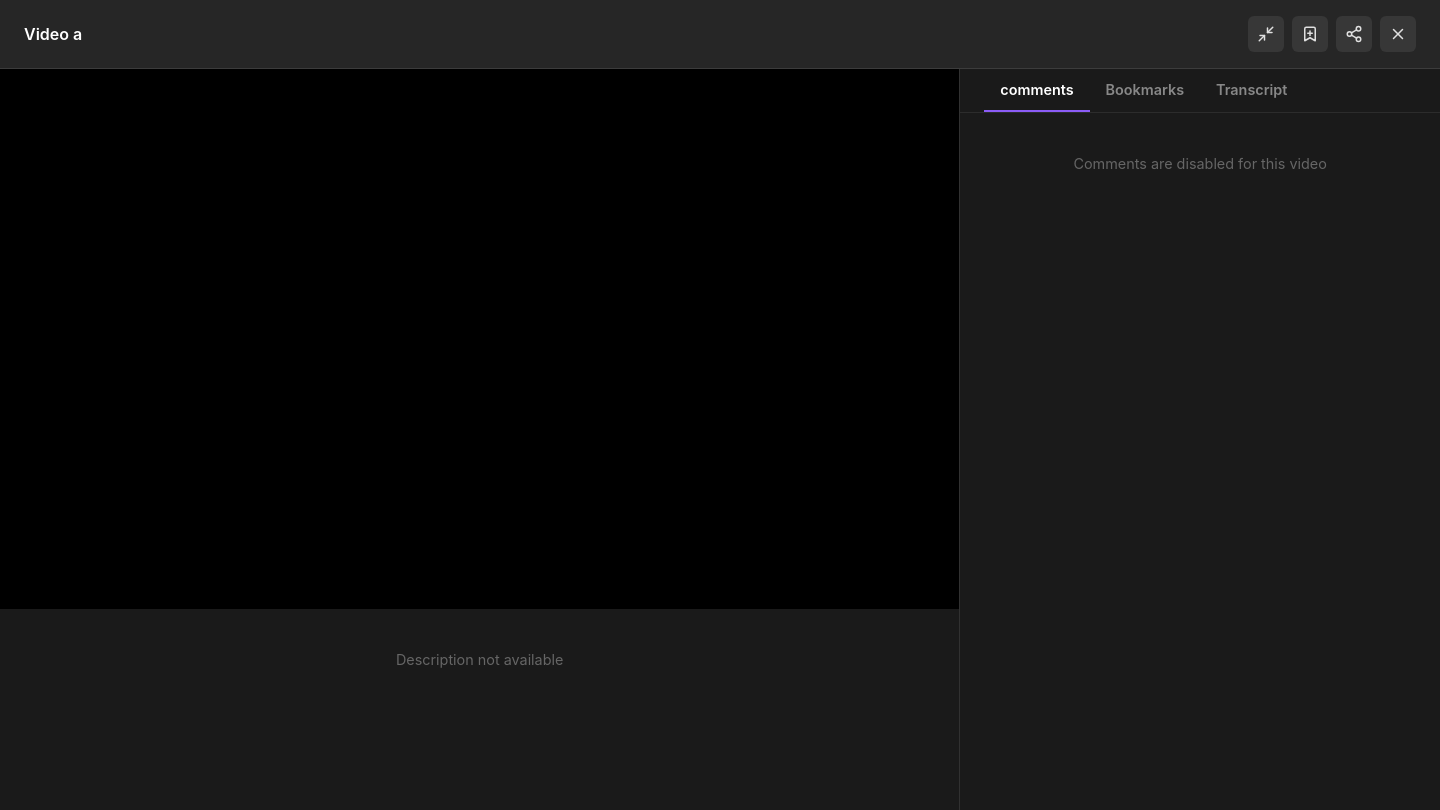
it: transcript tab › shows the lines once the tab is opened
Click the button with class "tab" showing "Transcript". click: {"x": 1252, "y": 90}
box: [1200, 69, 1303, 112]
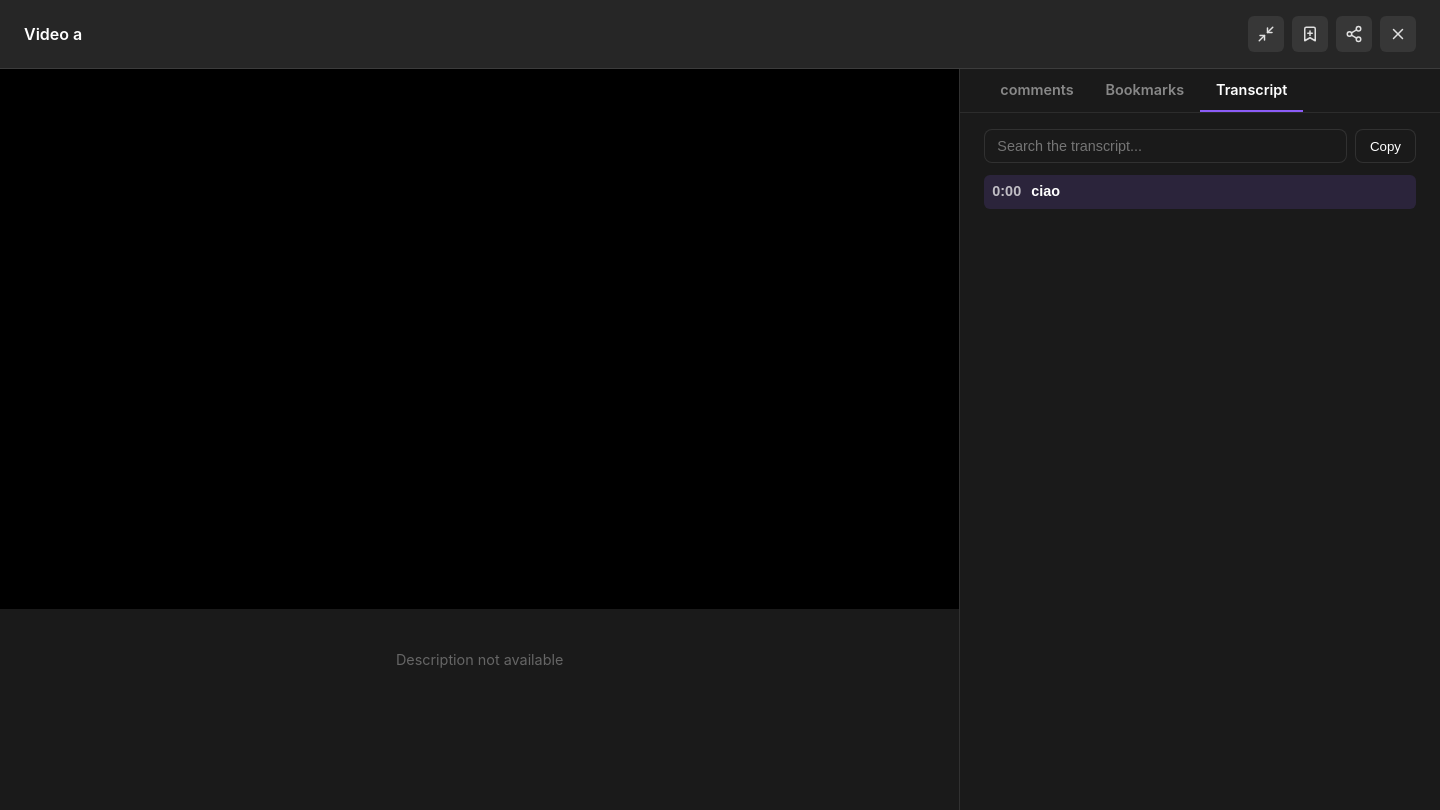
Expected: the number of buttons with class "transcript-line" is 1, [984, 175, 1416, 209]
